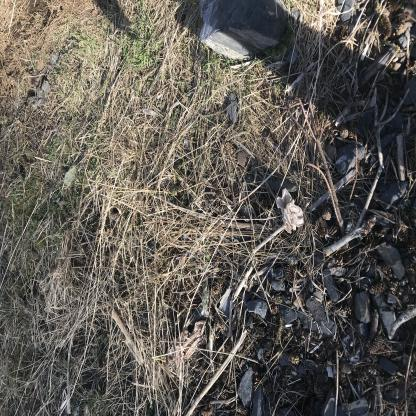trash: (136, 367, 176, 407)
